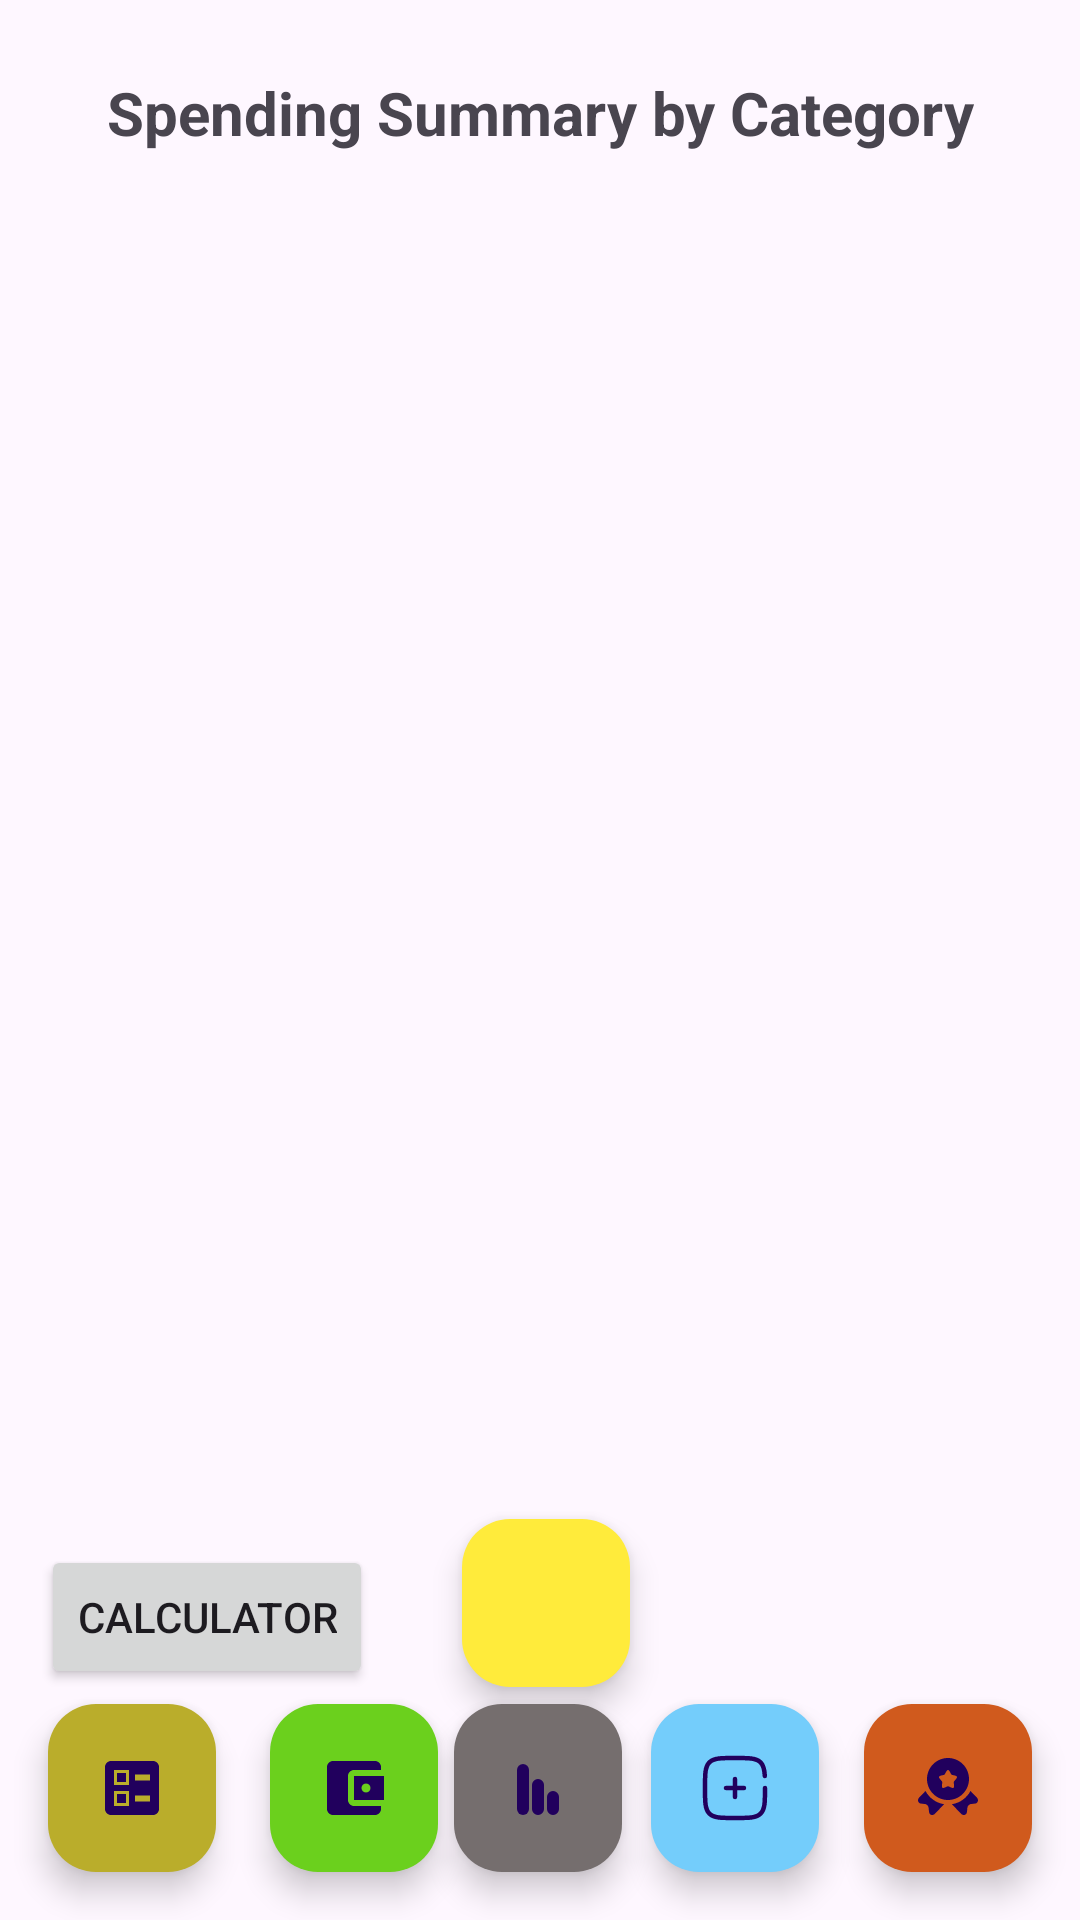

Icon bounding boxes for this 1080×1920 phone screenshot, format Rect(x1, y1, x2, y2):
Category summary: Rect(454, 1704, 622, 1872)
Set Goals: Rect(864, 1704, 1032, 1872)
View Expenses: Rect(48, 1704, 216, 1872)
